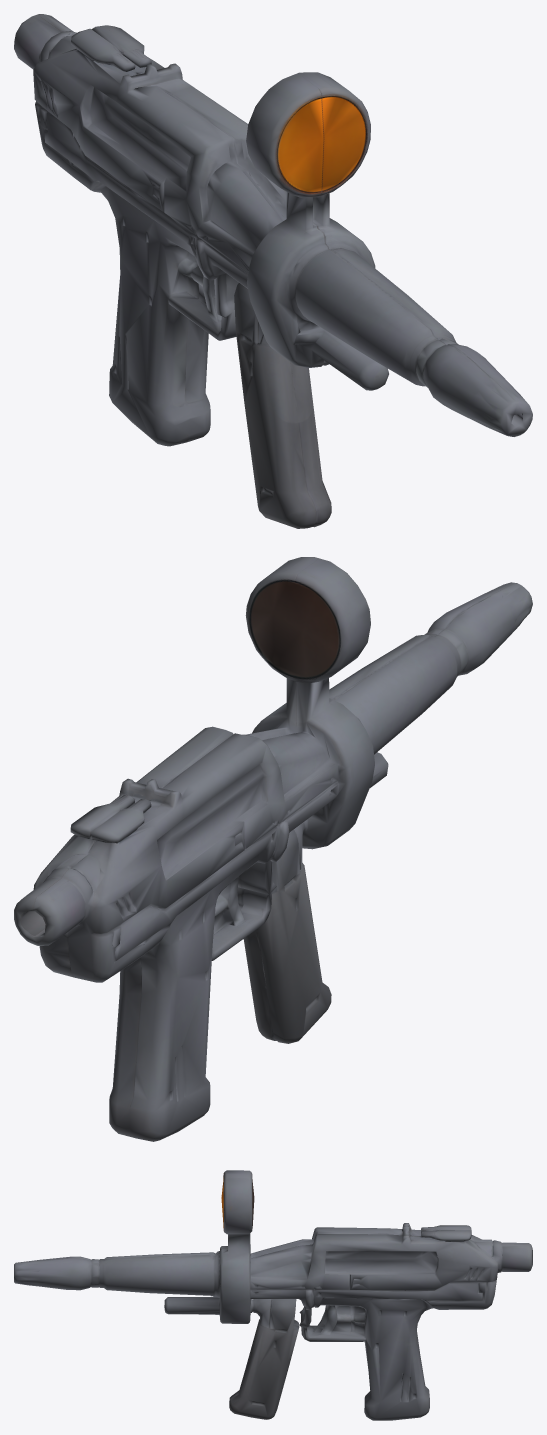
File: equip-rifle.glb
3 renders of one model, top to bottom at view 1: azimuth 30°, elevation 25°; view 2: azimuth 150°, elevation 25°; view 3: azimuth 270°, elevation 25°, orthographic. The views are drawn at different scales.
Visible parts, largest first — view 1: Mesh_0; view 2: Mesh_0; view 3: Mesh_0.
Boxes of the visible parts, bbox=[...] form: Mesh_0: bbox=[14, 14, 532, 528]; Mesh_0: bbox=[14, 557, 532, 1141]; Mesh_0: bbox=[14, 1170, 532, 1420].
Bounding box in the file's own units: 0.2384 × 0.9851 × 1.9.
1 material, 1 textured.
